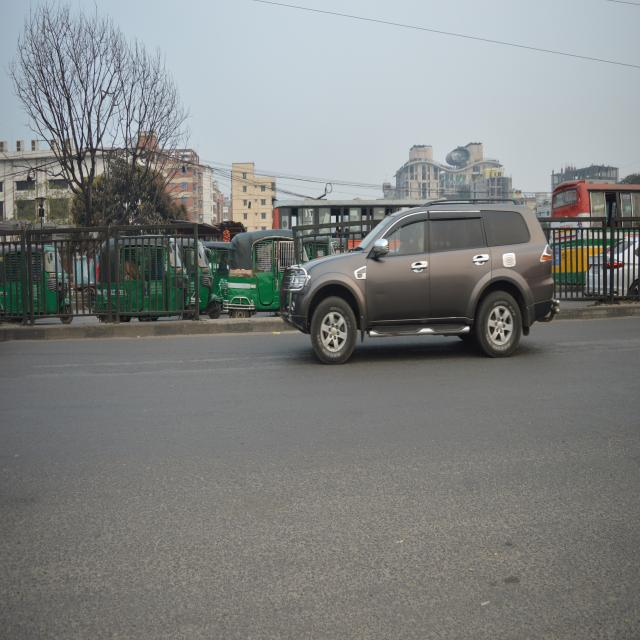bus: (552, 176, 640, 311)
car: (277, 197, 549, 368)
